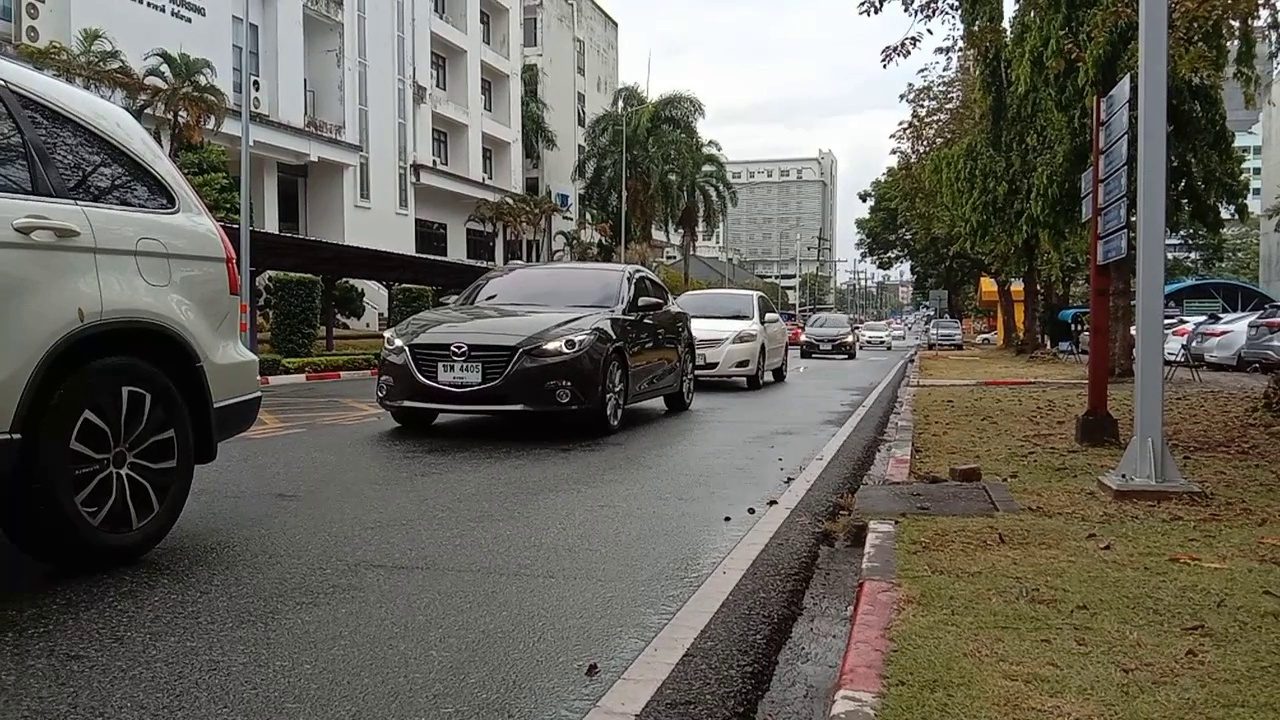License Plate: (438, 358, 481, 383)
